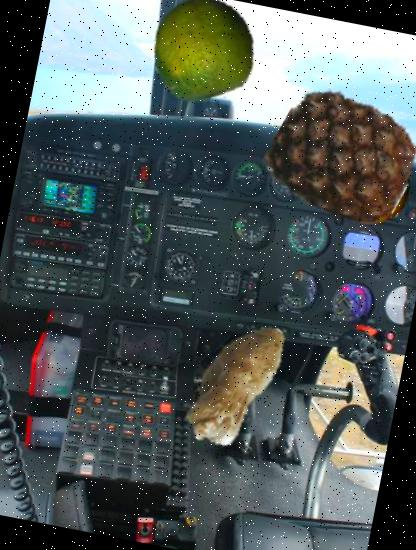Ginger: (156, 302, 318, 464)
Limes: (142, 0, 264, 109)
Papaya: (313, 123, 416, 231)
Pineapple: (261, 74, 416, 239)
